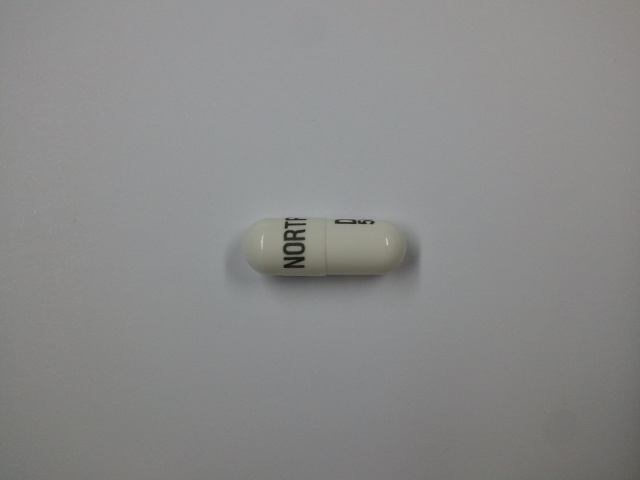capsule: (242, 217, 411, 276)
